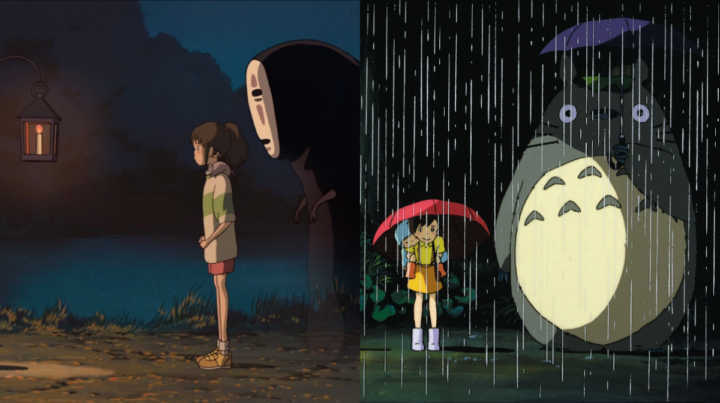Totoro: (493, 51, 702, 360)
